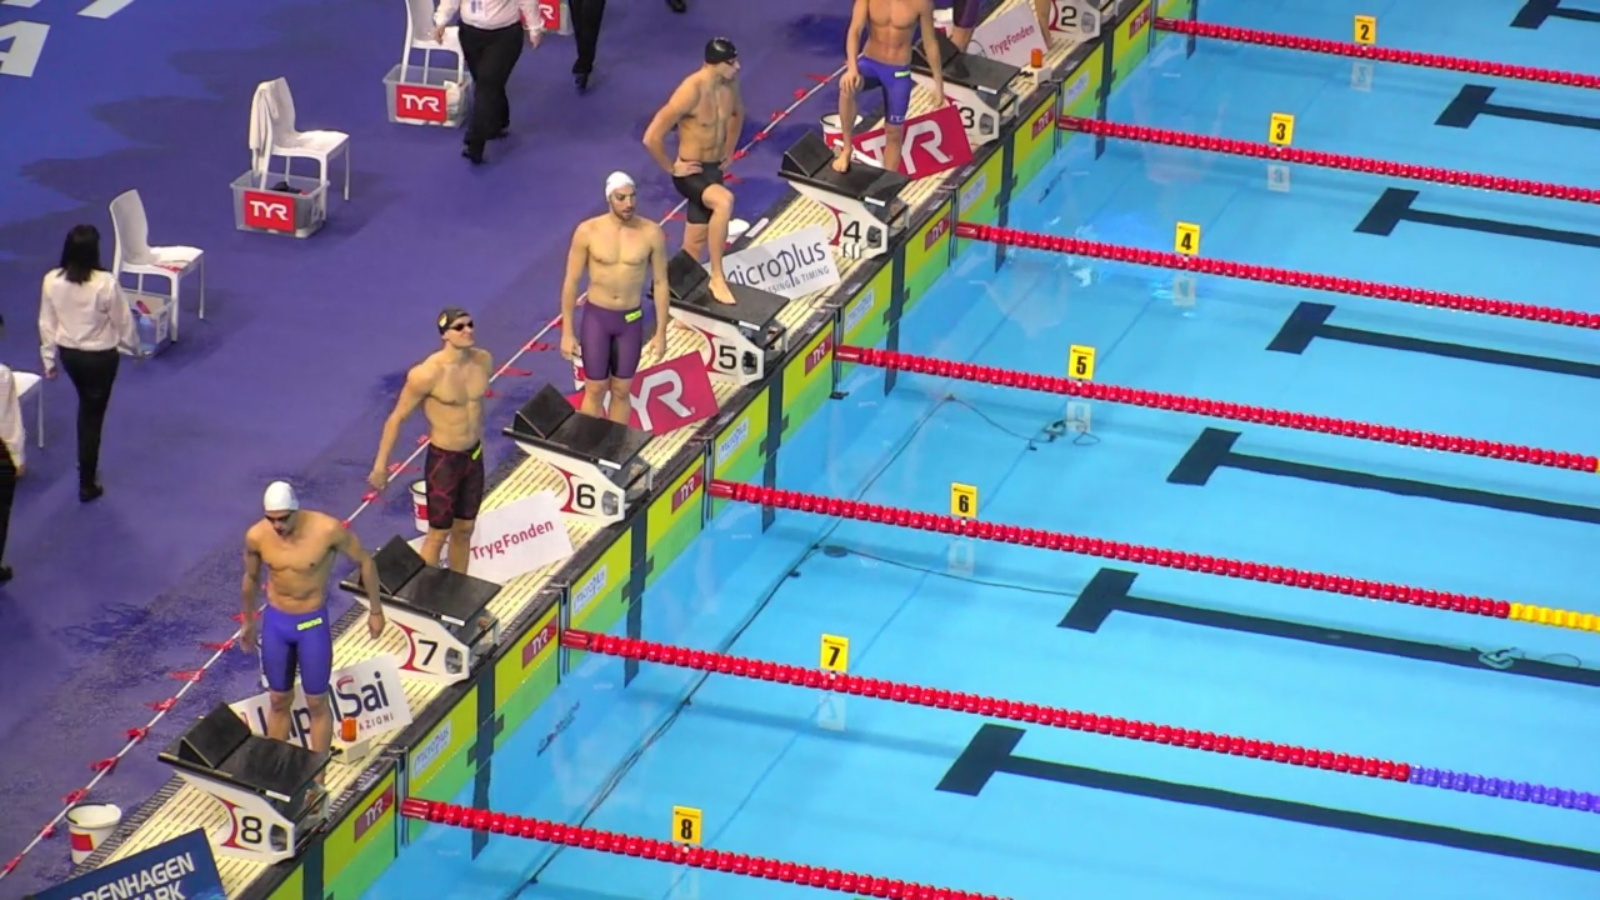swimmerw: (230, 476, 377, 812), (375, 309, 495, 571), (557, 173, 673, 427), (638, 41, 742, 299), (830, 1, 943, 176)
